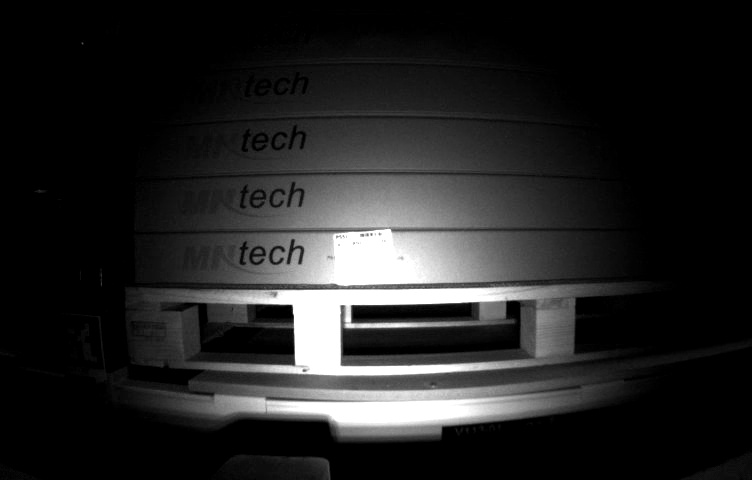True Barcode: (332, 230, 398, 278)
